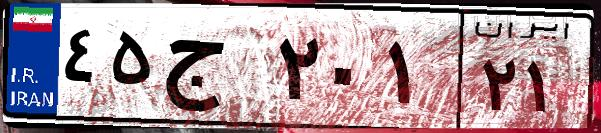0: (330, 28, 385, 110)
1: (385, 28, 445, 110), (525, 38, 570, 115)
2: (270, 28, 330, 110), (475, 38, 525, 113)
4: (57, 26, 110, 100)
5: (110, 28, 158, 98)
ج: (158, 20, 270, 120)
